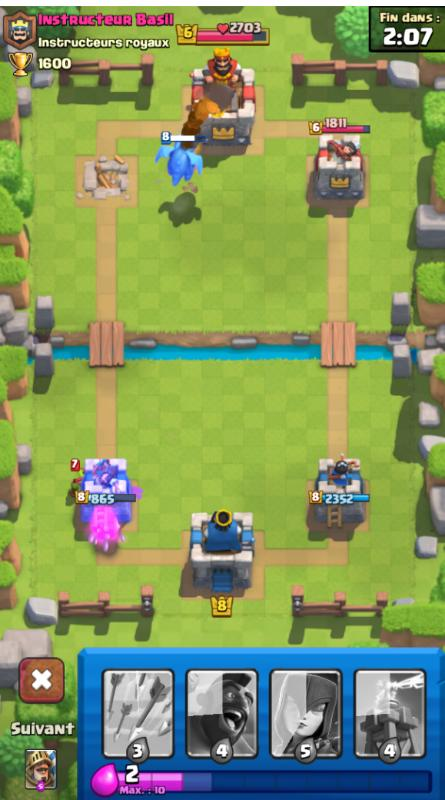gobelin: (69, 469, 84, 503)
